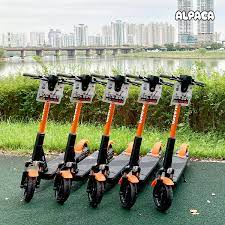kick_wheel: (152, 178, 172, 210), (119, 175, 138, 208), (56, 169, 71, 201), (23, 169, 37, 203), (89, 173, 104, 204)
